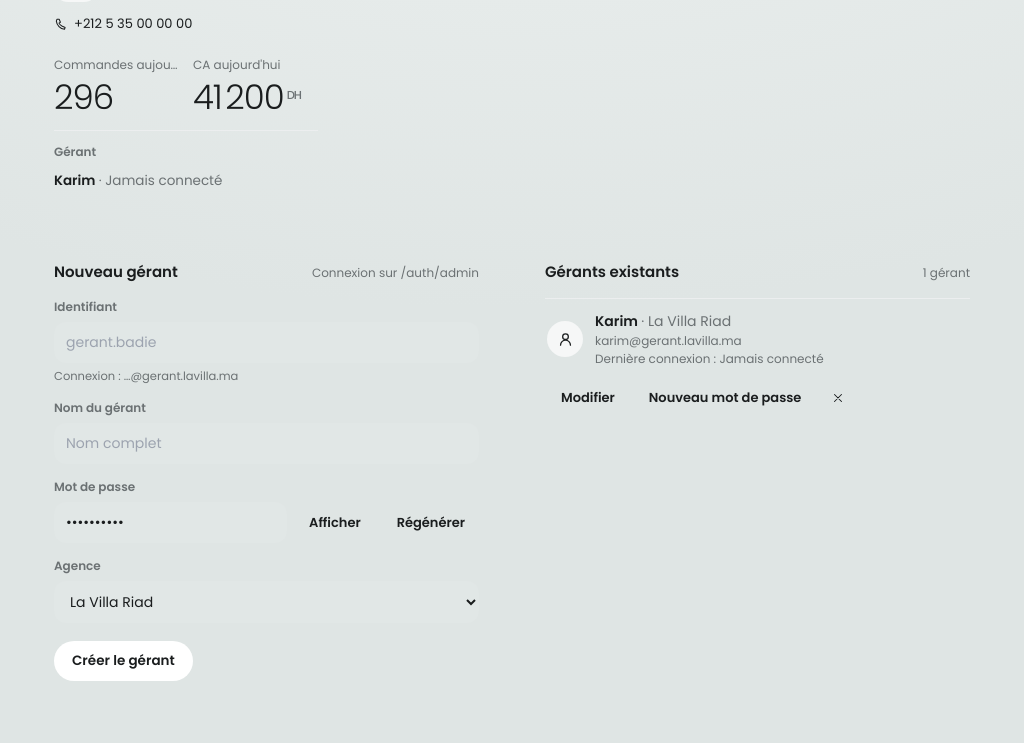
Scenario: ManagersScreen › masque le mot de passe par défaut et ouvre la réinitialisation
The width and height of the screenshot is (1024, 743).
(page scrolled)
Click the button with aria-label "Afficher le mot de passe" at (335, 523), box [295,502,375,543]
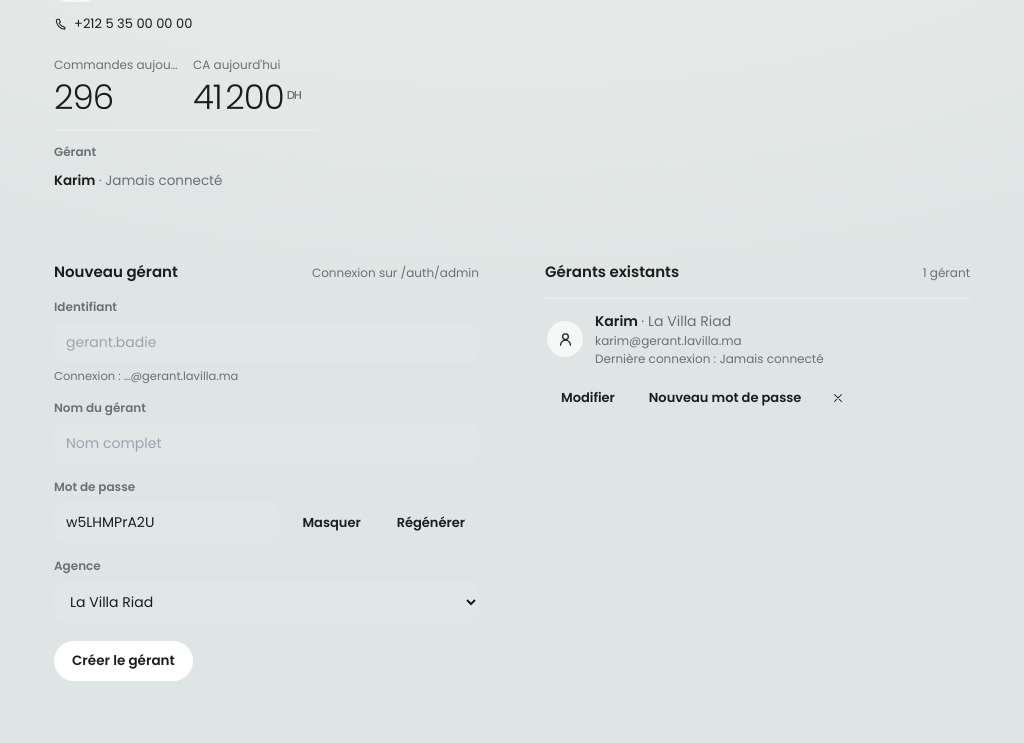
expect the field labelled "Mot de passe" shows its text: met, box [54,502,280,543]
Click the button "Nouveau mot de passe" at (725, 398), box [635,380,815,415]
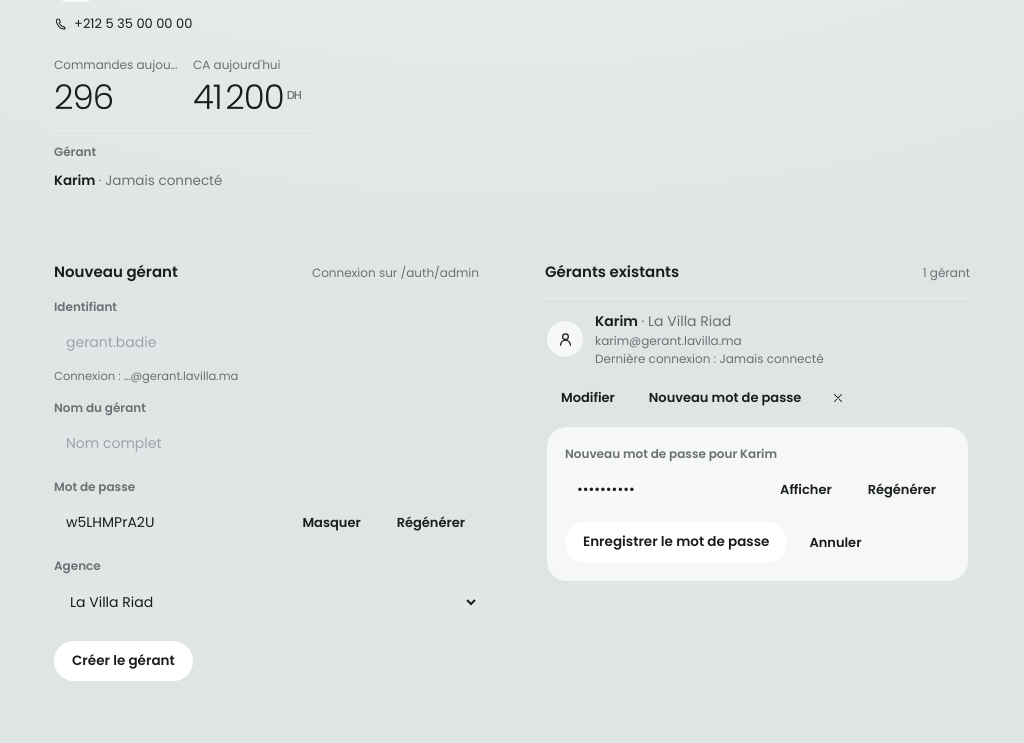
expect the button "Enregistrer le mot de passe" is shown: met, box [565,522,787,563]
